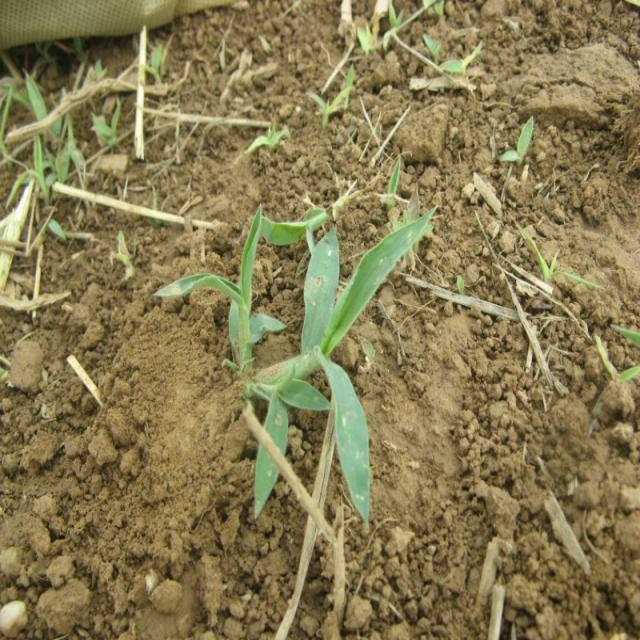bg: (155, 196, 429, 521)
